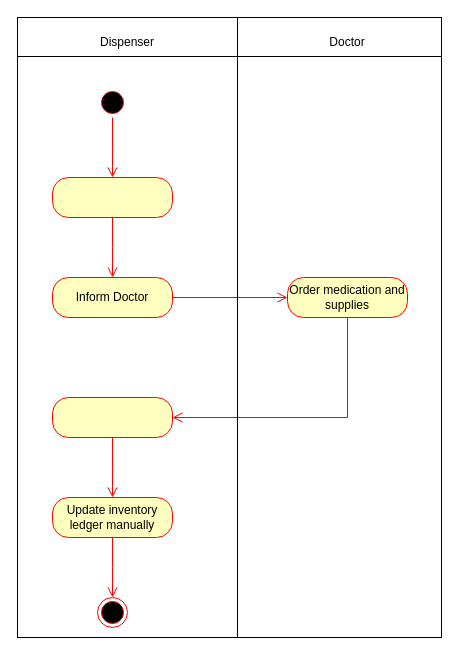
Image size: 460x656. Some labels were removed from this diagram. The shapes that lost their labels are listed below. From the top down, each one's box as (x1, y1, x2, y2) in pixels, then its label:
(52, 176, 172, 218): Identify low stock items
(52, 396, 172, 438): Receive delivery from doctor
